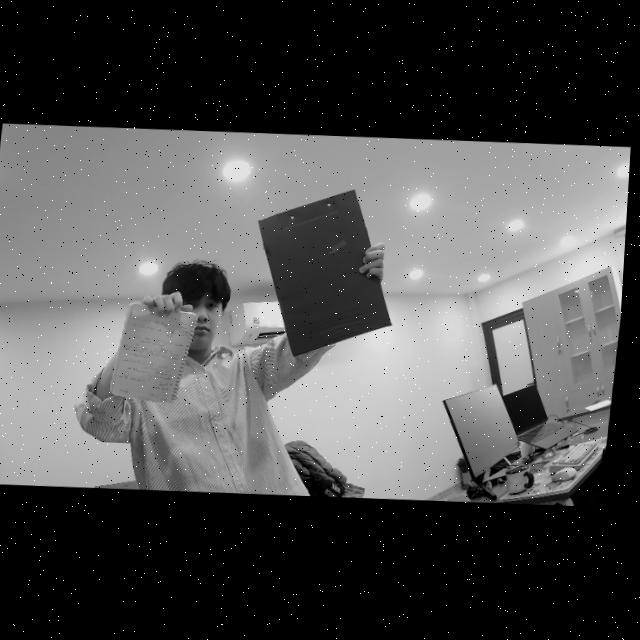document: (109, 302, 198, 404)
face: (186, 257, 232, 355)
